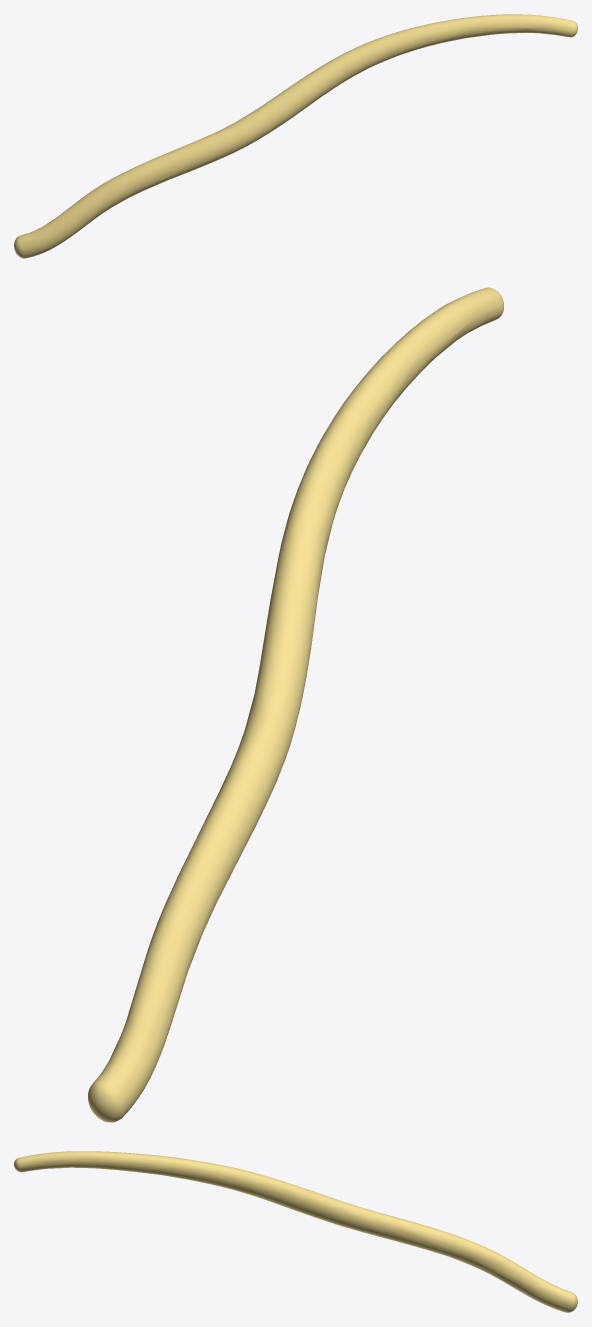
File: fma52640_fj3910.glb
3 renders of one model, top to bottom at view 1: azimuth 90°, elevation 25°; view 2: azimuth 150°, elevation 25°; view 3: azimuth 270°, elevation 25°, orthographic. The views are drawn at different scales.
Visible parts, largest first — view 1: FMA52640_FJ3910; view 2: FMA52640_FJ3910; view 3: FMA52640_FJ3910.
Boxes of the visible parts, bbox=[...] form: FMA52640_FJ3910: bbox=[14, 14, 577, 258]; FMA52640_FJ3910: bbox=[88, 287, 503, 1122]; FMA52640_FJ3910: bbox=[14, 1151, 577, 1312].
Size of the model in its own units: 0.00836 by 0.0164 by 0.0415.
